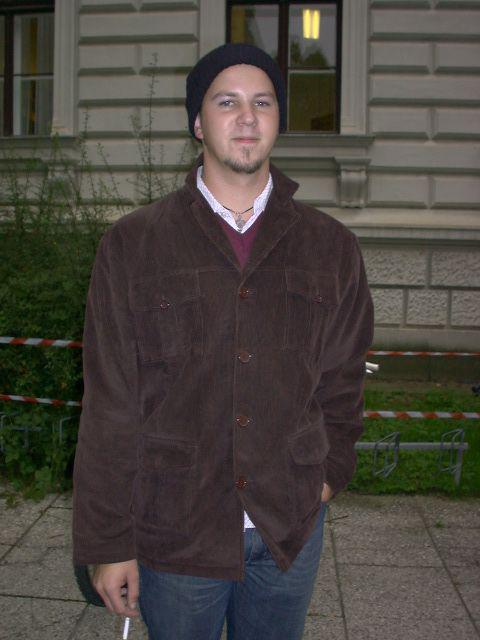Person: (71, 44, 377, 640)
